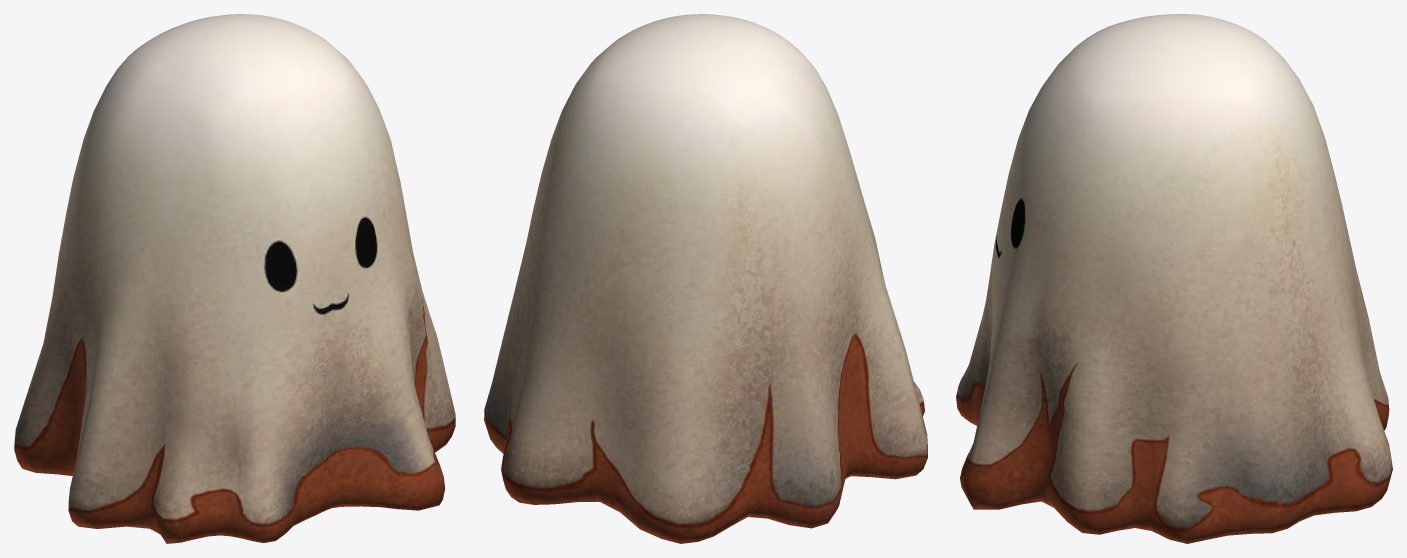
File: ghost-transformed.glb
3 views of the same model, side by side, from view 1: azimuth 30°, elevation 25°; view 2: azimuth 150°, elevation 25°; view 3: azimuth 270°, elevation 25° (orthographic). The views are drawn at different scales.
Parts seen in each view (by area): view 1: Ghost.002; view 2: Ghost.002; view 3: Ghost.002.
Part boxes in pixels (x1,y1,x2,y2): Ghost.002: (14, 14, 455, 543); Ghost.002: (484, 14, 927, 543); Ghost.002: (956, 14, 1392, 543).
Bounding box in the file's own units: 2.75 × 3.03 × 2.64.
1 material, 1 textured.
